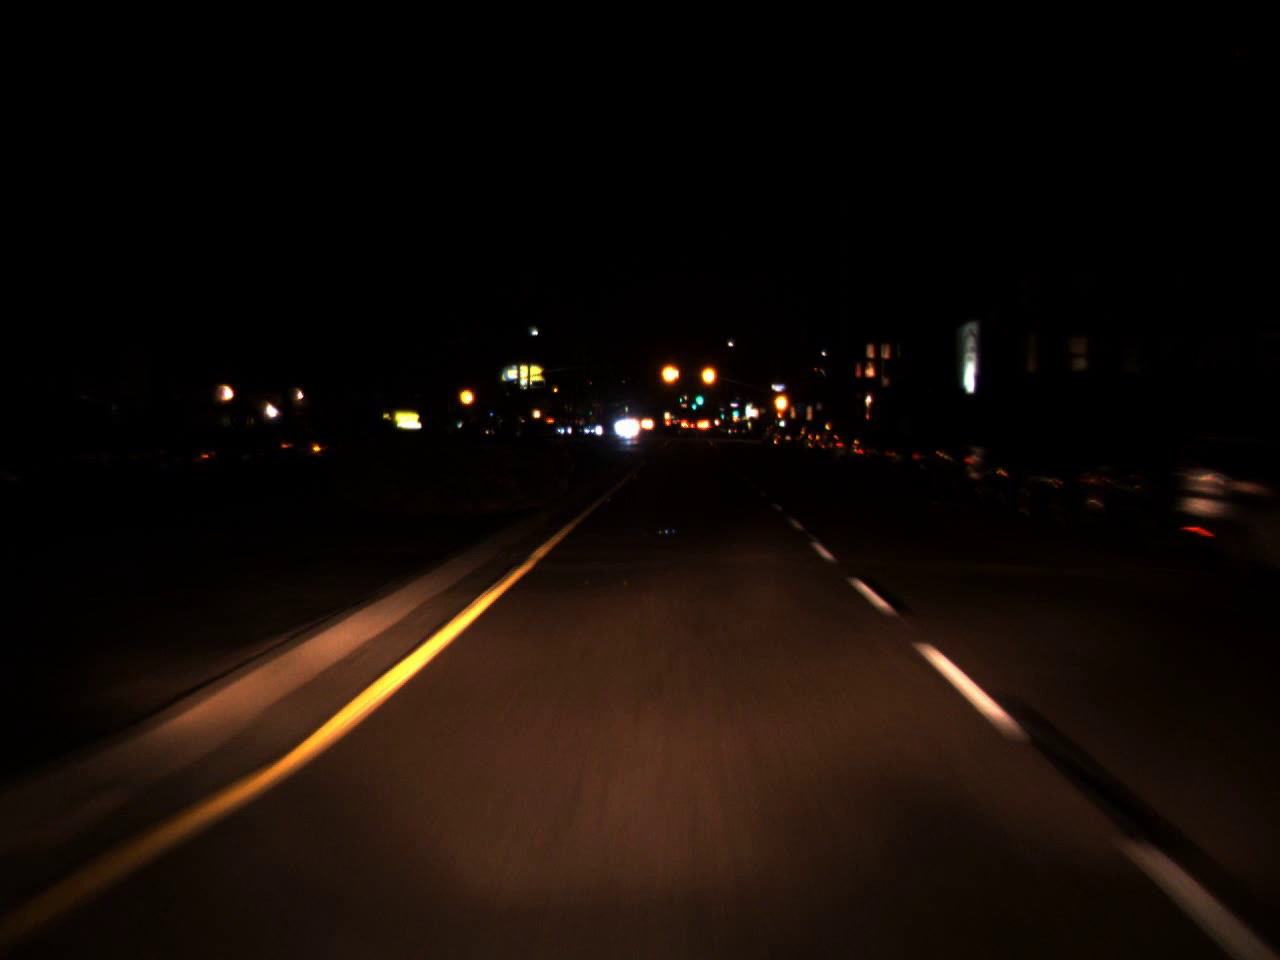go: (692, 386, 703, 407), (732, 406, 739, 418)
warning: (657, 353, 682, 393), (697, 353, 719, 395), (772, 384, 790, 419), (457, 382, 475, 412)
